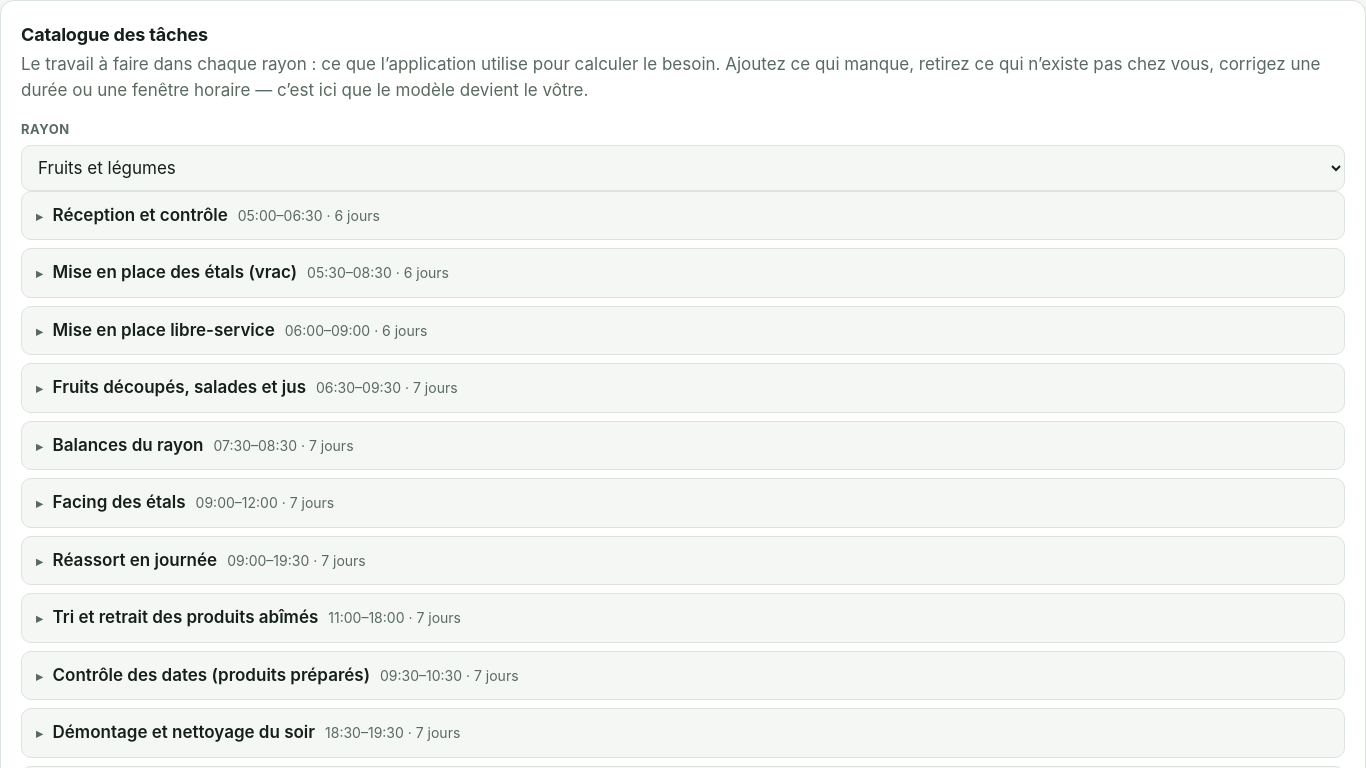
it: catalogue des tâches › liste les tâches du rayon choisi
The image size is (1366, 768).
Expected: the text "Réception et contrôle" is shown, [52,202,228,228]
Select "Drive" in the dropdown labelled "Rayon" at (683, 168), box [21,144,1345,190]
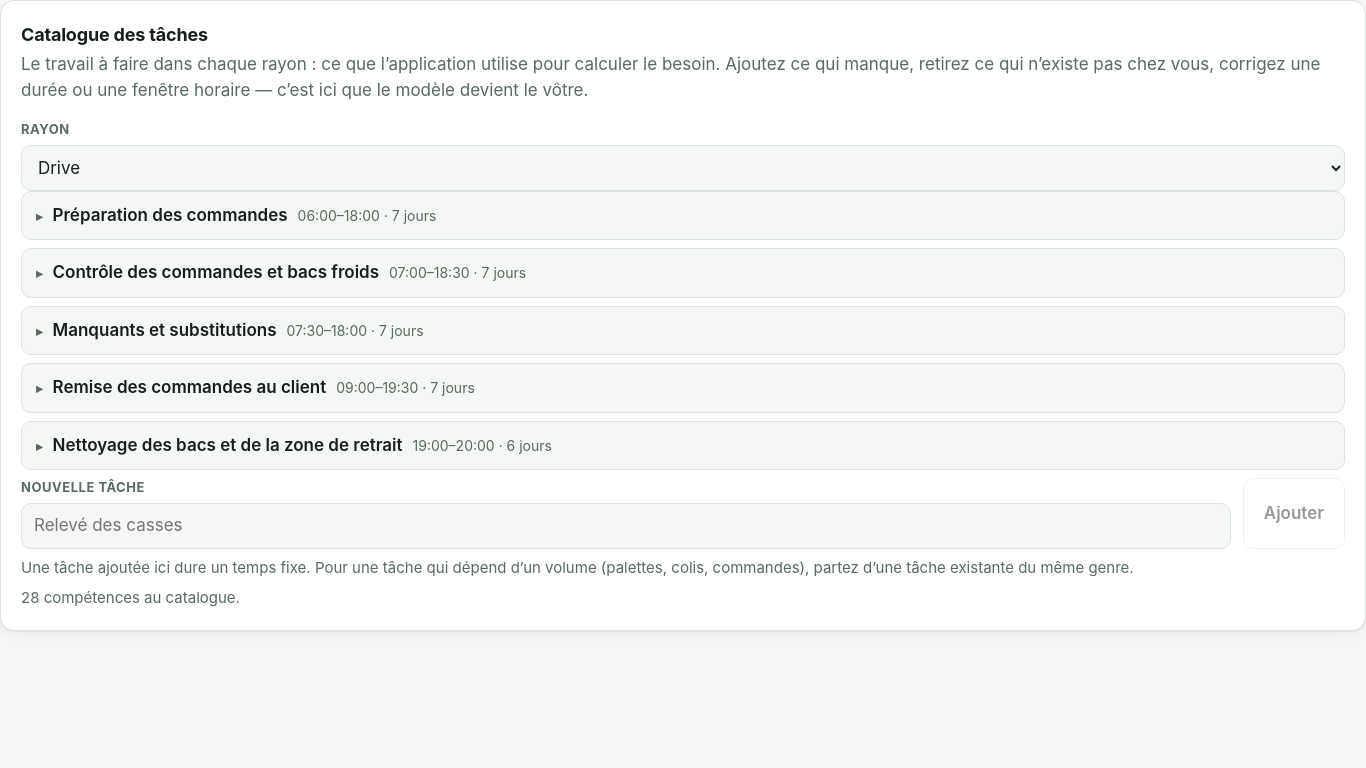
Now the text "Préparation des commandes" is shown, box [52,202,288,228]
Now the heading "Réception et contrôle" is gone
